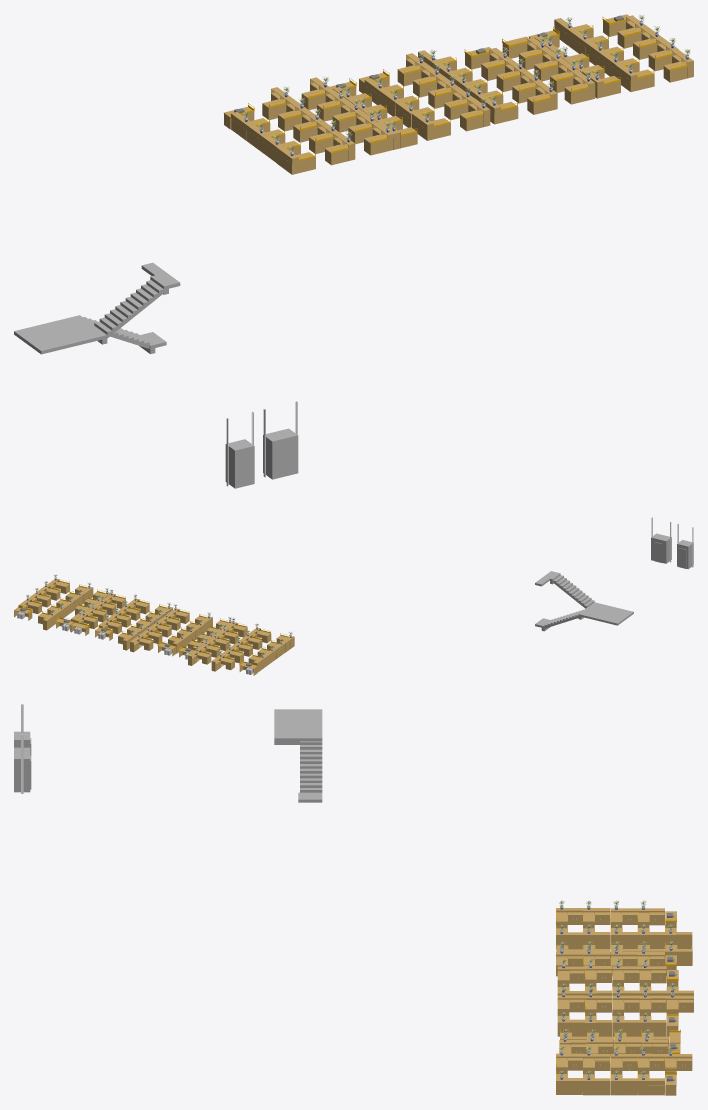
Rendered from 5楼桌椅.gltf.
3 views of the same model, one above another, from view 1: azimuth 30°, elevation 25°; view 2: azimuth 150°, elevation 25°; view 3: azimuth 270°, elevation 25° (orthographic). The views are drawn at different scales.
Visible parts, largest first — view 1: AT双跑平行梯-首层 [750478], DT 2015 [732889], DT 1615 [732862]; view 2: AT双跑平行梯-首层 [750478], DT 2015 [732889], DT 1615 [732862]; view 3: AT双跑平行梯-首层 [750478], DT 2015 [732889].
Part boxes in pixels (bbox=[...]): AT双跑平行梯-首层 [750478]: bbox=[14, 262, 180, 354]; DT 2015 [732889]: bbox=[263, 401, 298, 479]; DT 1615 [732862]: bbox=[225, 411, 254, 488]; AT双跑平行梯-首层 [750478]: bbox=[535, 571, 633, 631]; DT 2015 [732889]: bbox=[651, 517, 671, 563]; DT 1615 [732862]: bbox=[677, 523, 693, 569]; AT双跑平行梯-首层 [750478]: bbox=[274, 709, 322, 802]; DT 2015 [732889]: bbox=[14, 720, 31, 793].
Size of the model in its own units: 50.38 by 4.6 by 41.32.
Materials: 16 (1 with a texture image).
